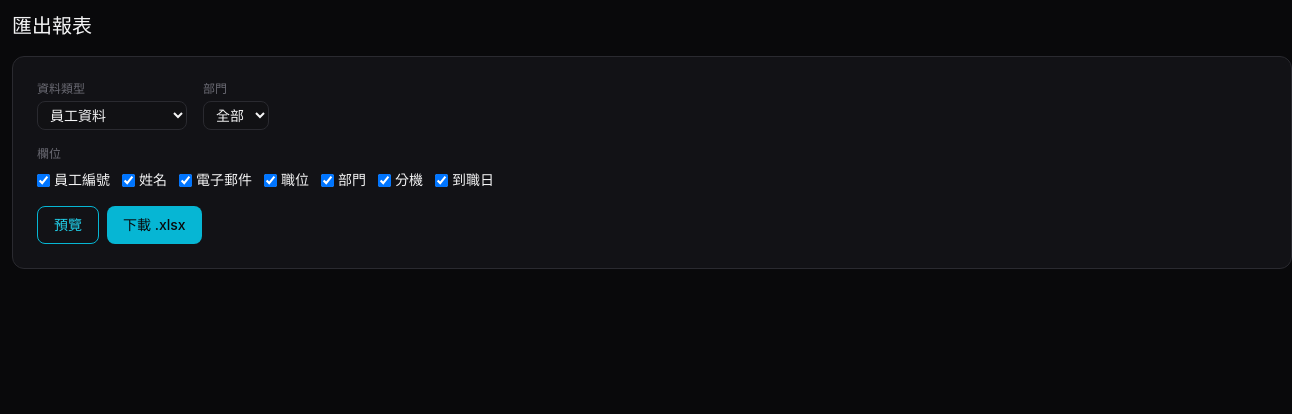
Test: 日期篩選欄位維持空白（不限日期），但點開日曆一律顯示展示用虛擬時鐘的今天所在月份
The width and height of the screenshot is (1292, 414).
Select "出勤（生效值）" in the dropdown labelled "資料類型" at (112, 116), box [37,101,187,130]
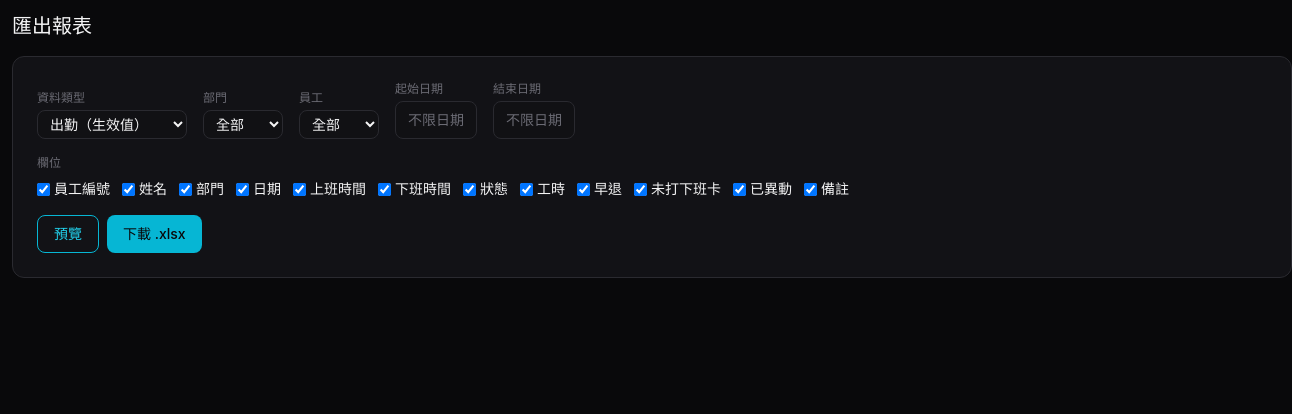
Expected: the number of buttons "不限日期" is 2
Click the button "不限日期" below "起始日期" at (436, 120), box [395,101,477,139]
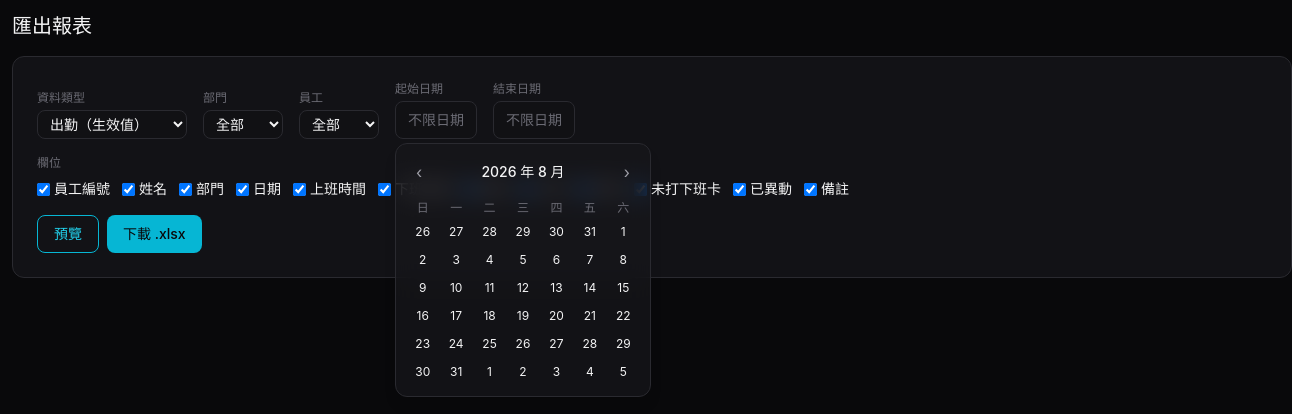
Expected: the text "2026 年 8 月" is shown, [481,162,564,182]
